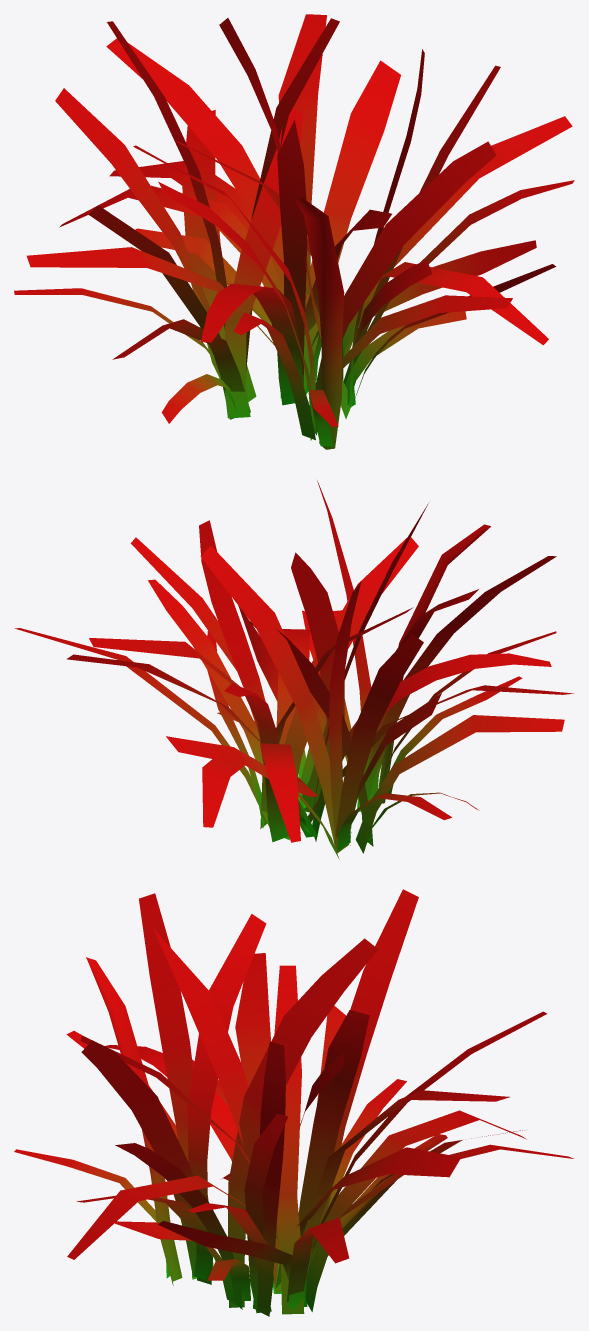
Rendered from Var7_LOD2.fbx.
3 renders of one model, top to bottom at view 1: azimuth 30°, elevation 25°; view 2: azimuth 150°, elevation 25°; view 3: azimuth 270°, elevation 25°, orthographic. The views are drawn at different scales.
Parts seen in each view (by area): view 1: _dc2c_Var7_LOD2; view 2: _dc2c_Var7_LOD2; view 3: _dc2c_Var7_LOD2.
Part boxes in pixels (x1,y1,x2,y2): _dc2c_Var7_LOD2: [14, 14, 574, 449]; _dc2c_Var7_LOD2: [14, 480, 574, 859]; _dc2c_Var7_LOD2: [14, 889, 573, 1316].
Bounding box in the file's own units: 99.95 × 60.53 × 86.14.
